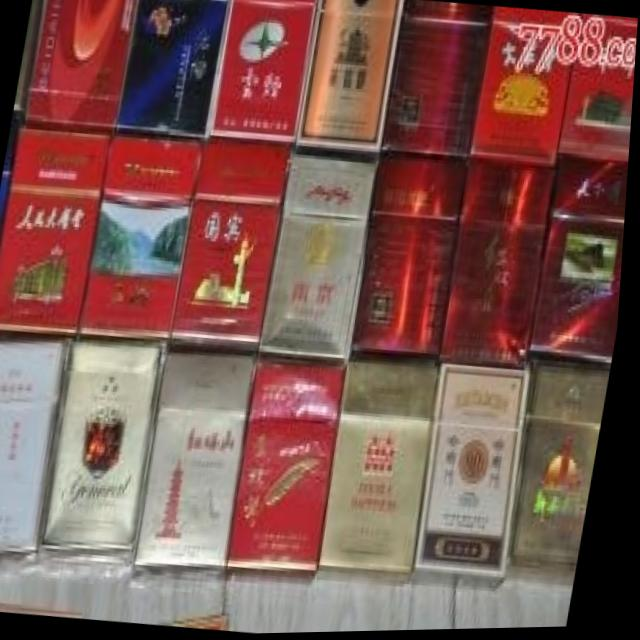box: (82, 133, 205, 338), (143, 353, 259, 570), (234, 363, 353, 573), (174, 141, 294, 349), (328, 362, 446, 572), (421, 365, 535, 582), (49, 341, 168, 547), (0, 125, 114, 336), (265, 152, 379, 360), (357, 159, 470, 356), (448, 164, 556, 370), (533, 155, 631, 368), (514, 365, 615, 571), (471, 11, 582, 166), (384, 0, 492, 159), (300, 0, 402, 154), (118, 0, 231, 138), (210, 0, 317, 144), (0, 342, 69, 553), (26, 0, 138, 128), (560, 16, 638, 168)
